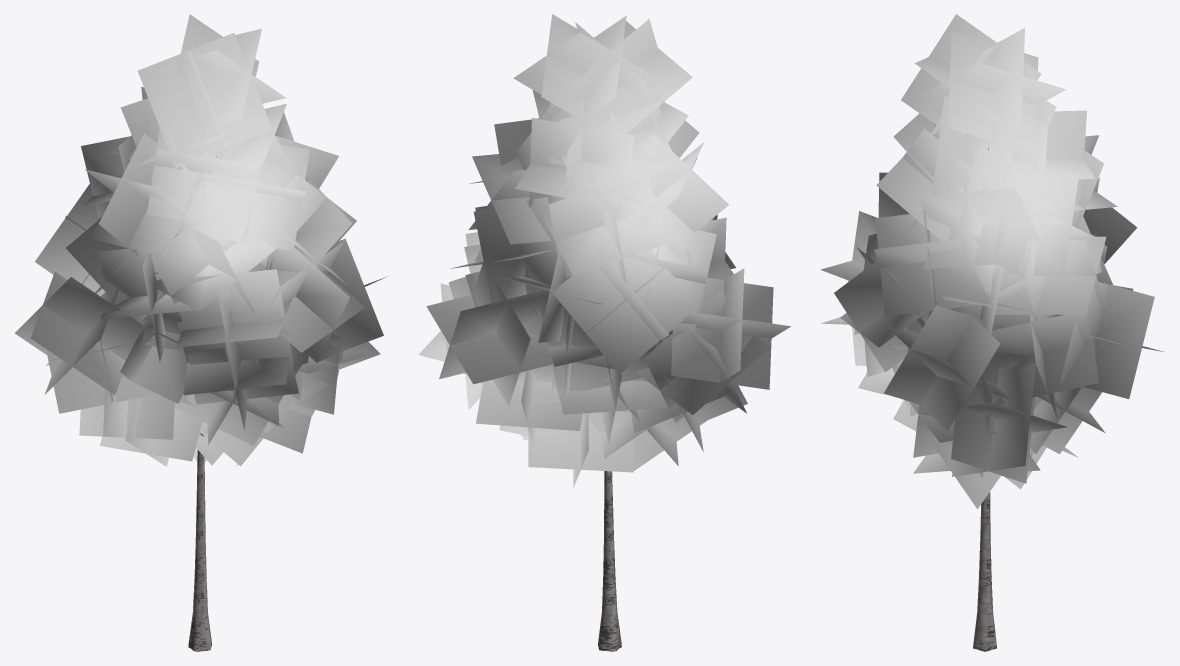
The model's file is tree07_main_LOD1.fbx.
3 views of the same model, side by side, from view 1: azimuth 30°, elevation 25°; view 2: azimuth 150°, elevation 25°; view 3: azimuth 270°, elevation 25° (orthographic).
Visible parts, largest first — view 1: tree.007; view 2: tree.007; view 3: tree.007.
Part boxes in pixels (<box>): tree.007: <box>14,14,387,651</box>; tree.007: <box>418,14,790,651</box>; tree.007: <box>820,14,1163,651</box>.
Bounding box in the file's own units: 756 × 1300 × 654.
